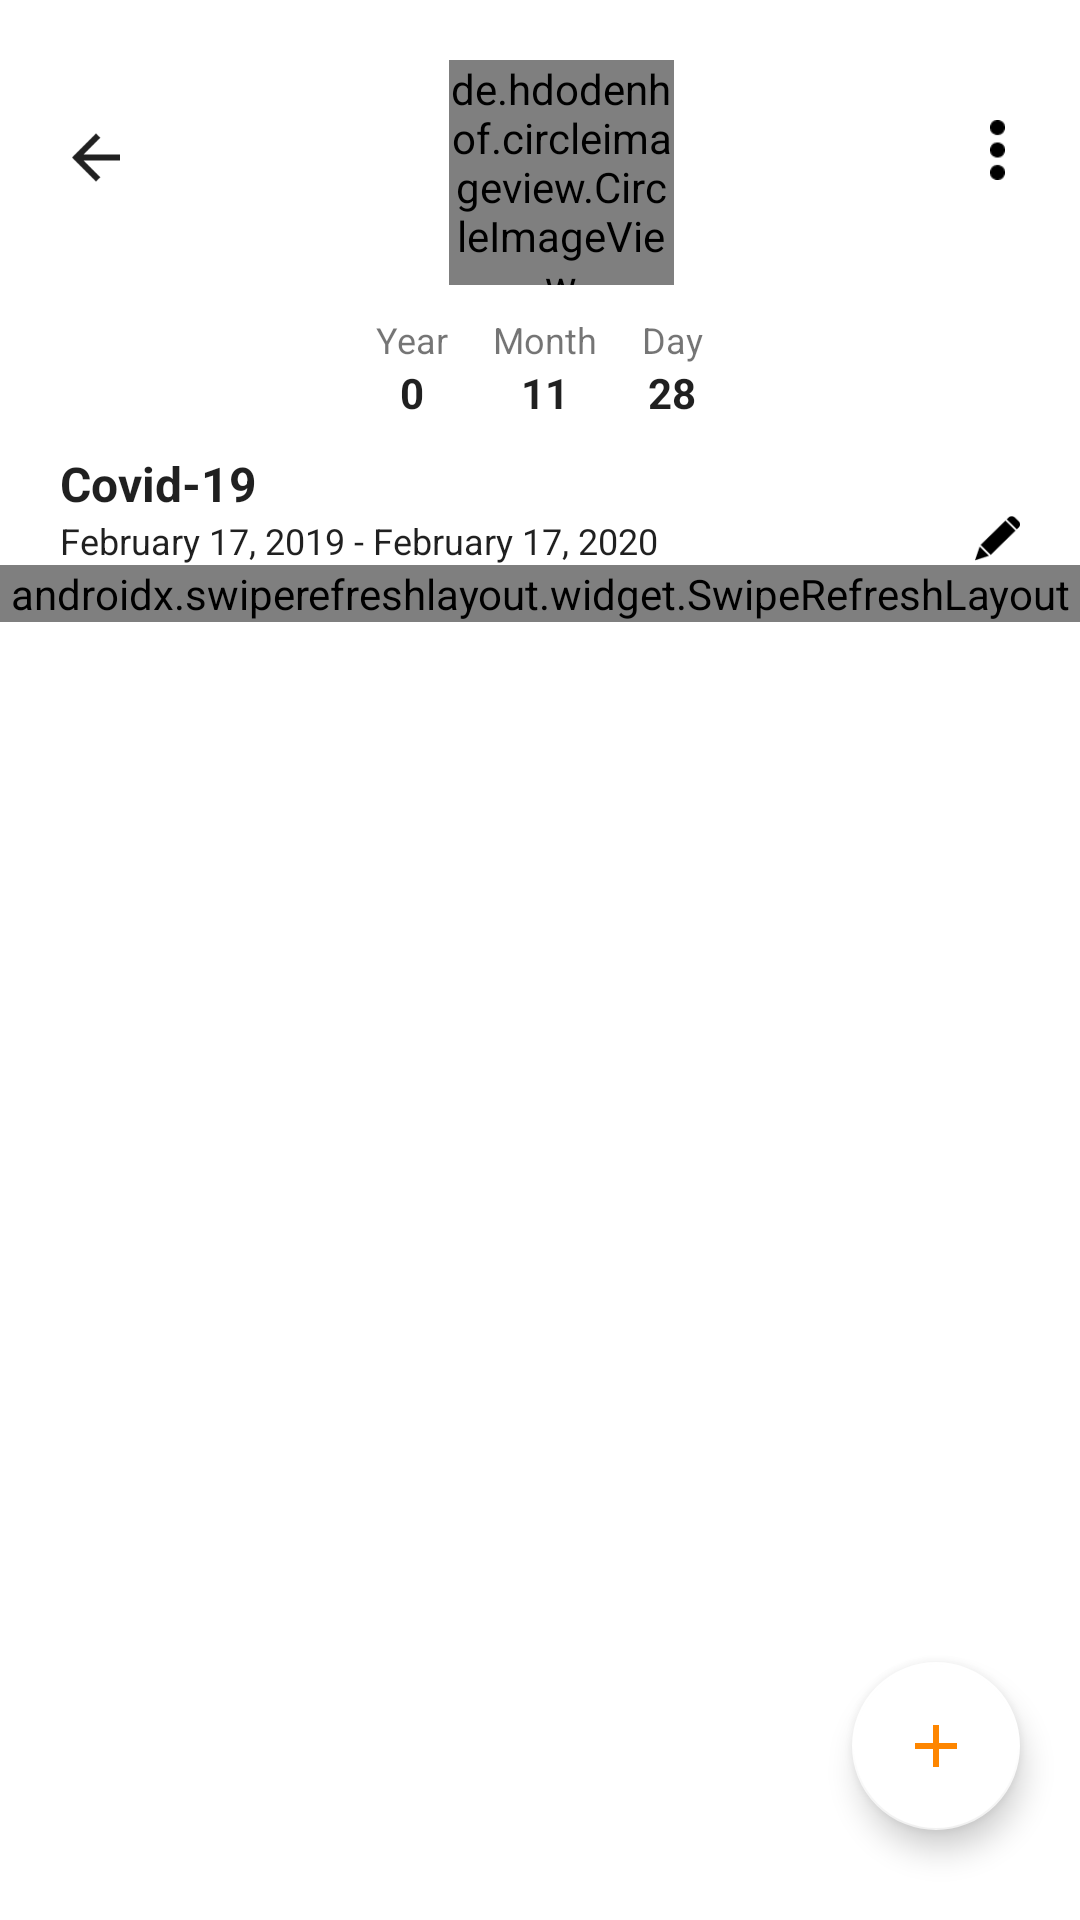

Named icons in this screenshot (1080*1920) and their bounding boxes, Rect(x1, y1, x2, y2):
account detail edit: Rect(975, 516, 1020, 561)
back home: Rect(72, 133, 120, 182)
